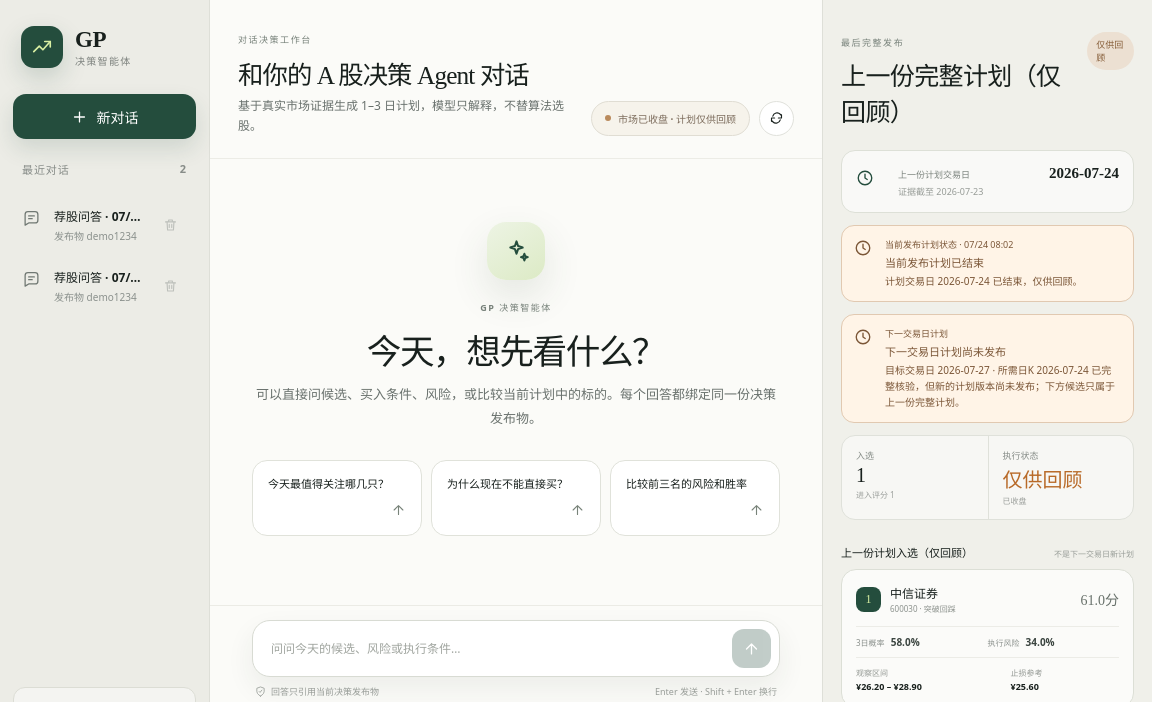
GP chat workspace › does not let a slower conversation request overwrite the latest selection
Expected: the text "中信证券" is shown, [890,585,938,602]
Click the button "荐股问答 · 07/23 09:01 发布物 demo1234" at (84, 286), box [13,258,154,314]
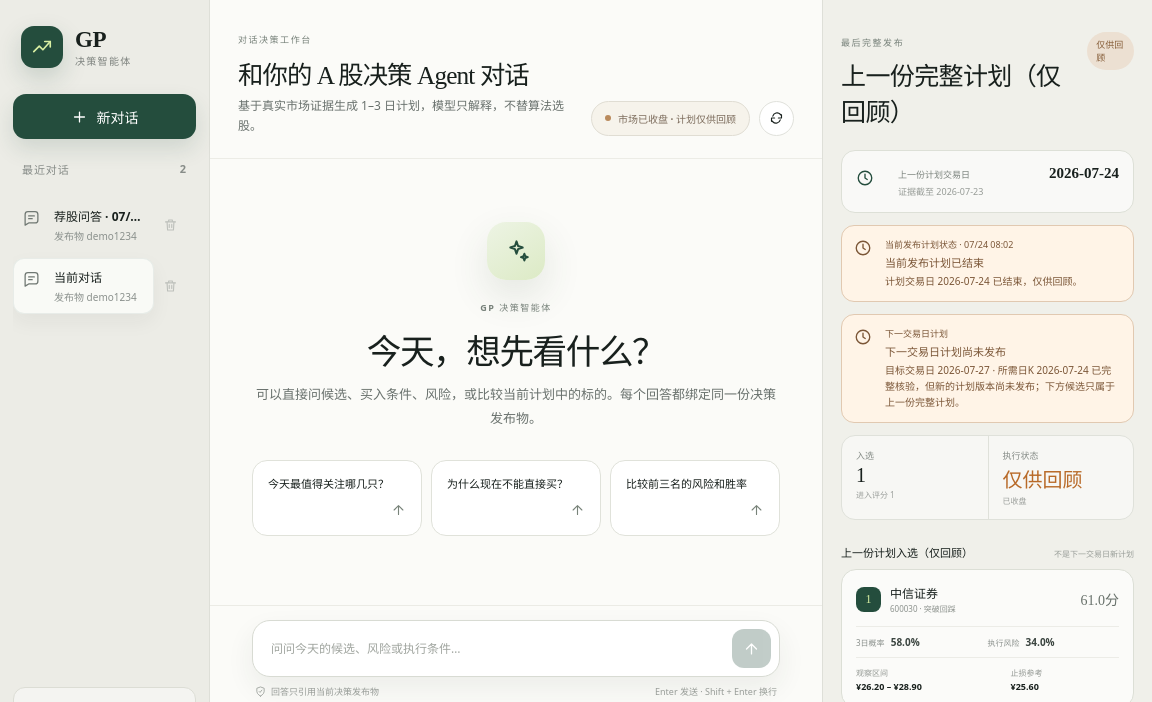
Click the button "荐股问答 · 07/23 10:01 发布物 demo1234" at (84, 225), box [13,197,154,253]
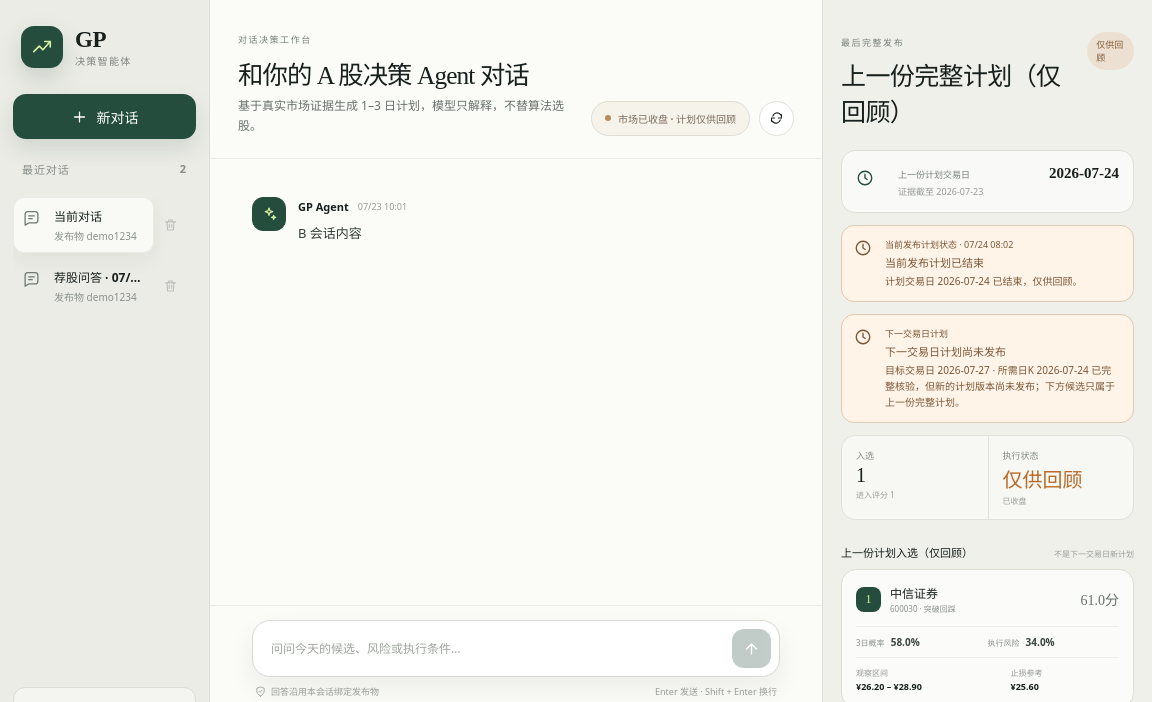
Now the text "B 会话内容" is shown, box [298,224,362,242]
